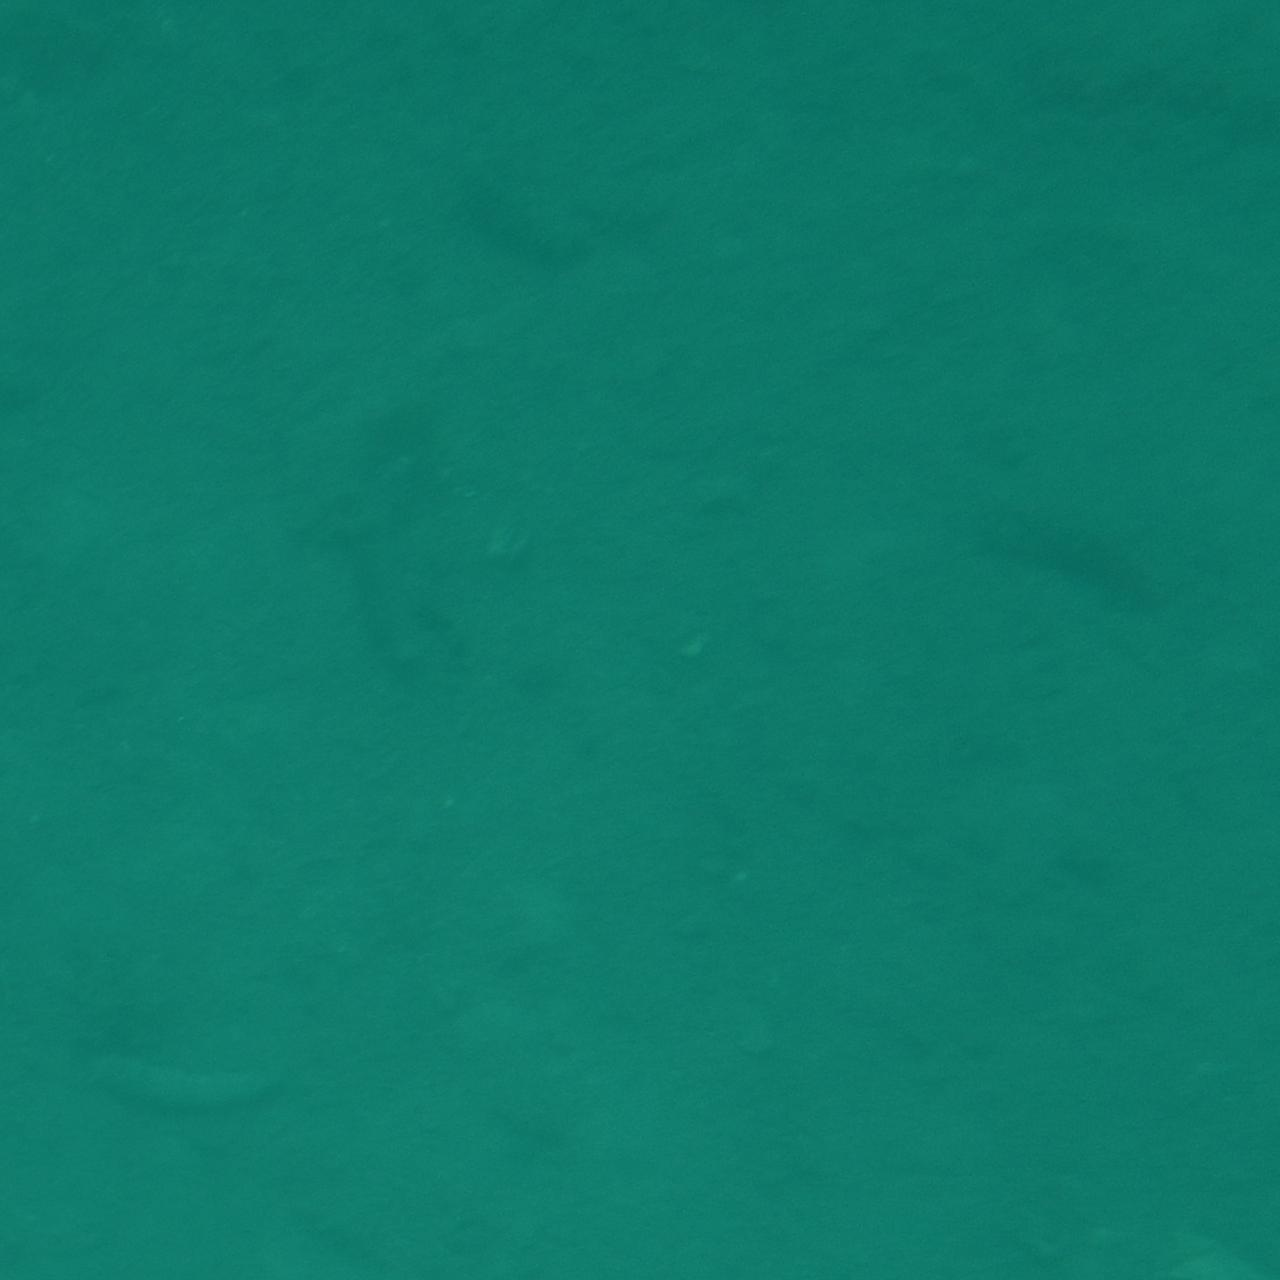Holothuria tubulosa: (435, 114, 689, 302), (928, 485, 1198, 642), (61, 1015, 373, 1131)
